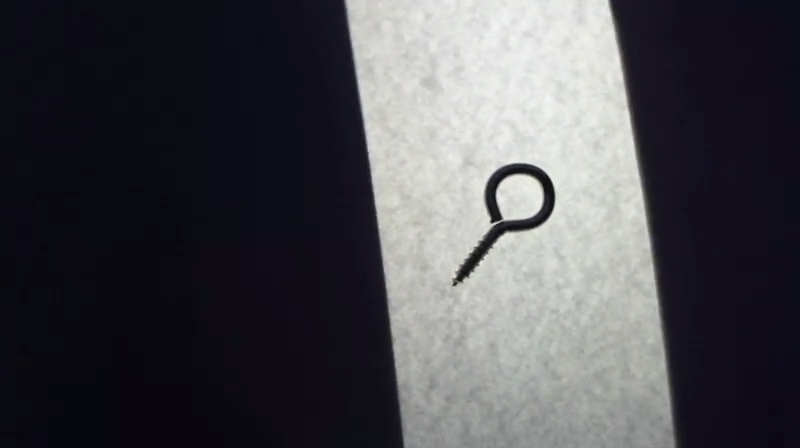O001: (445, 160, 558, 291)
